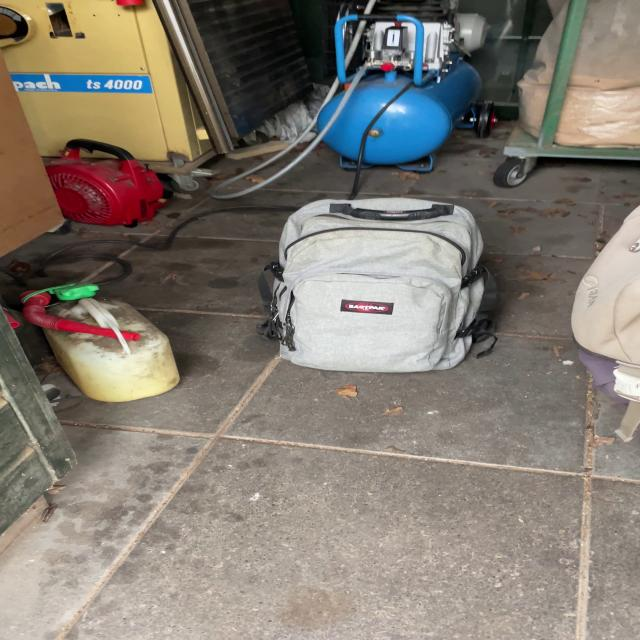backpack: (246, 192, 506, 380)
